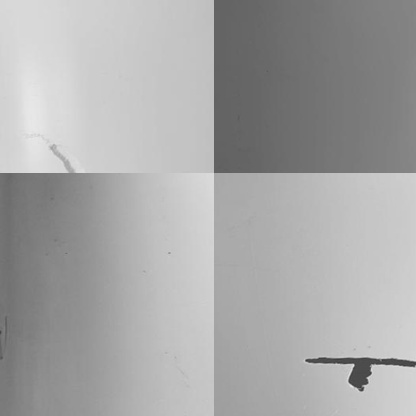fengxi: (304, 349, 413, 368)
kongdong: (345, 364, 373, 391)
sunshang: (38, 137, 82, 173)
